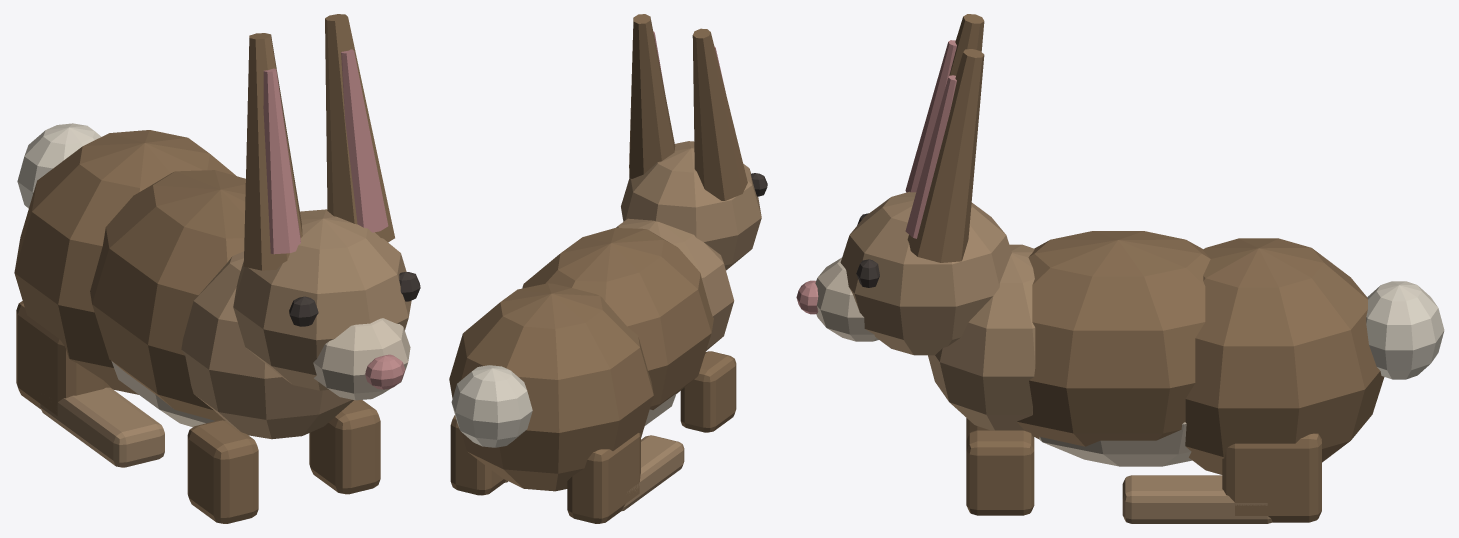
The model's file is rv_rabbit.gltf.
3 renders of one model, left to right at view 1: azimuth 30°, elevation 25°; view 2: azimuth 150°, elevation 25°; view 3: azimuth 270°, elevation 25°, orthographic. The views are drawn at different scales.
Parts seen in each view (by area): view 1: RV_Rabbit; view 2: RV_Rabbit; view 3: RV_Rabbit.
Boxes of the visible parts, bbox=[...] form: RV_Rabbit: bbox=[14, 14, 420, 523]; RV_Rabbit: bbox=[449, 14, 767, 523]; RV_Rabbit: bbox=[796, 14, 1444, 523].
Bounding box in the file's own units: 0.2568 × 0.5453 × 0.715.
